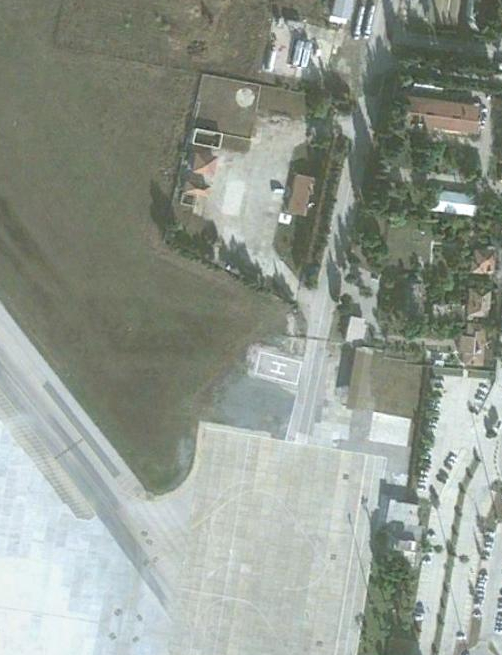heliport: (268, 359, 289, 375)
